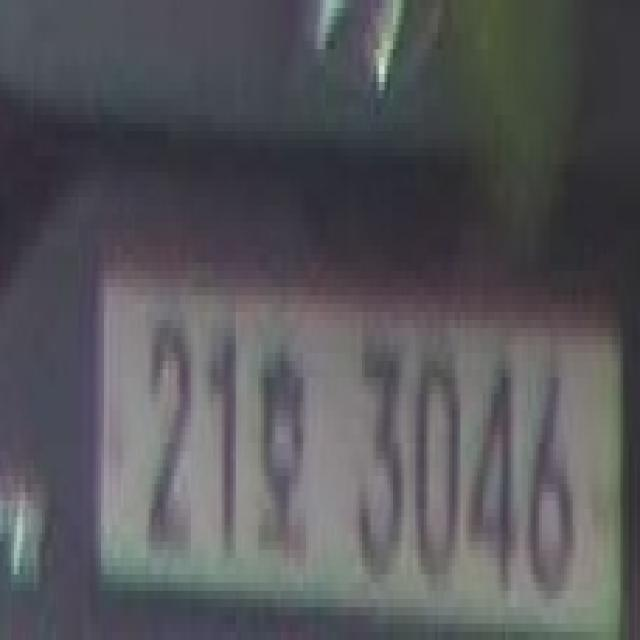0: (413, 329, 467, 593)
1: (205, 311, 245, 560)
2: (137, 314, 195, 561)
3: (346, 332, 409, 585)
4: (466, 351, 522, 599)
6: (526, 347, 583, 611)
ho: (251, 327, 323, 574)
license_plate: (99, 273, 624, 632)
